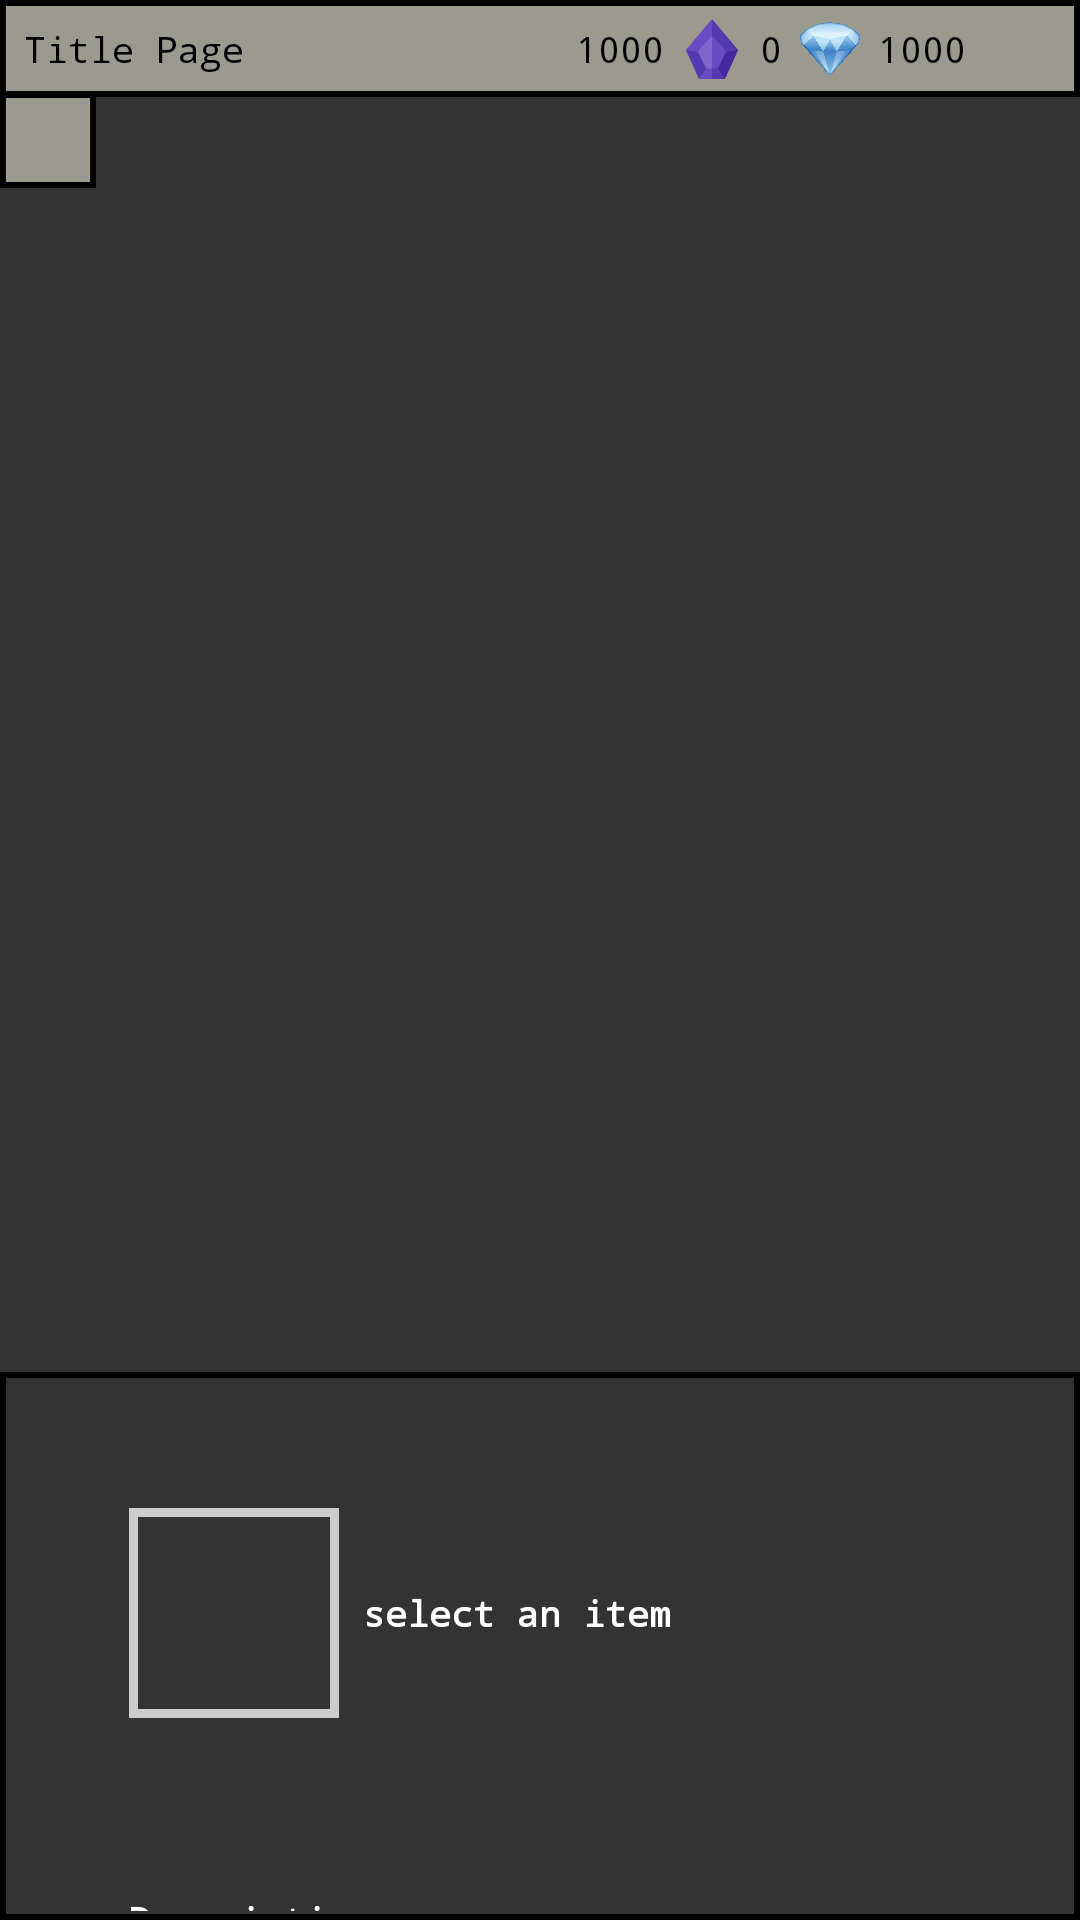

Icons on this 1080px×1920px Android screen, each with its box as box=[x1, y1, x2, y2]:
diamond: box=[800, 22, 860, 75]
